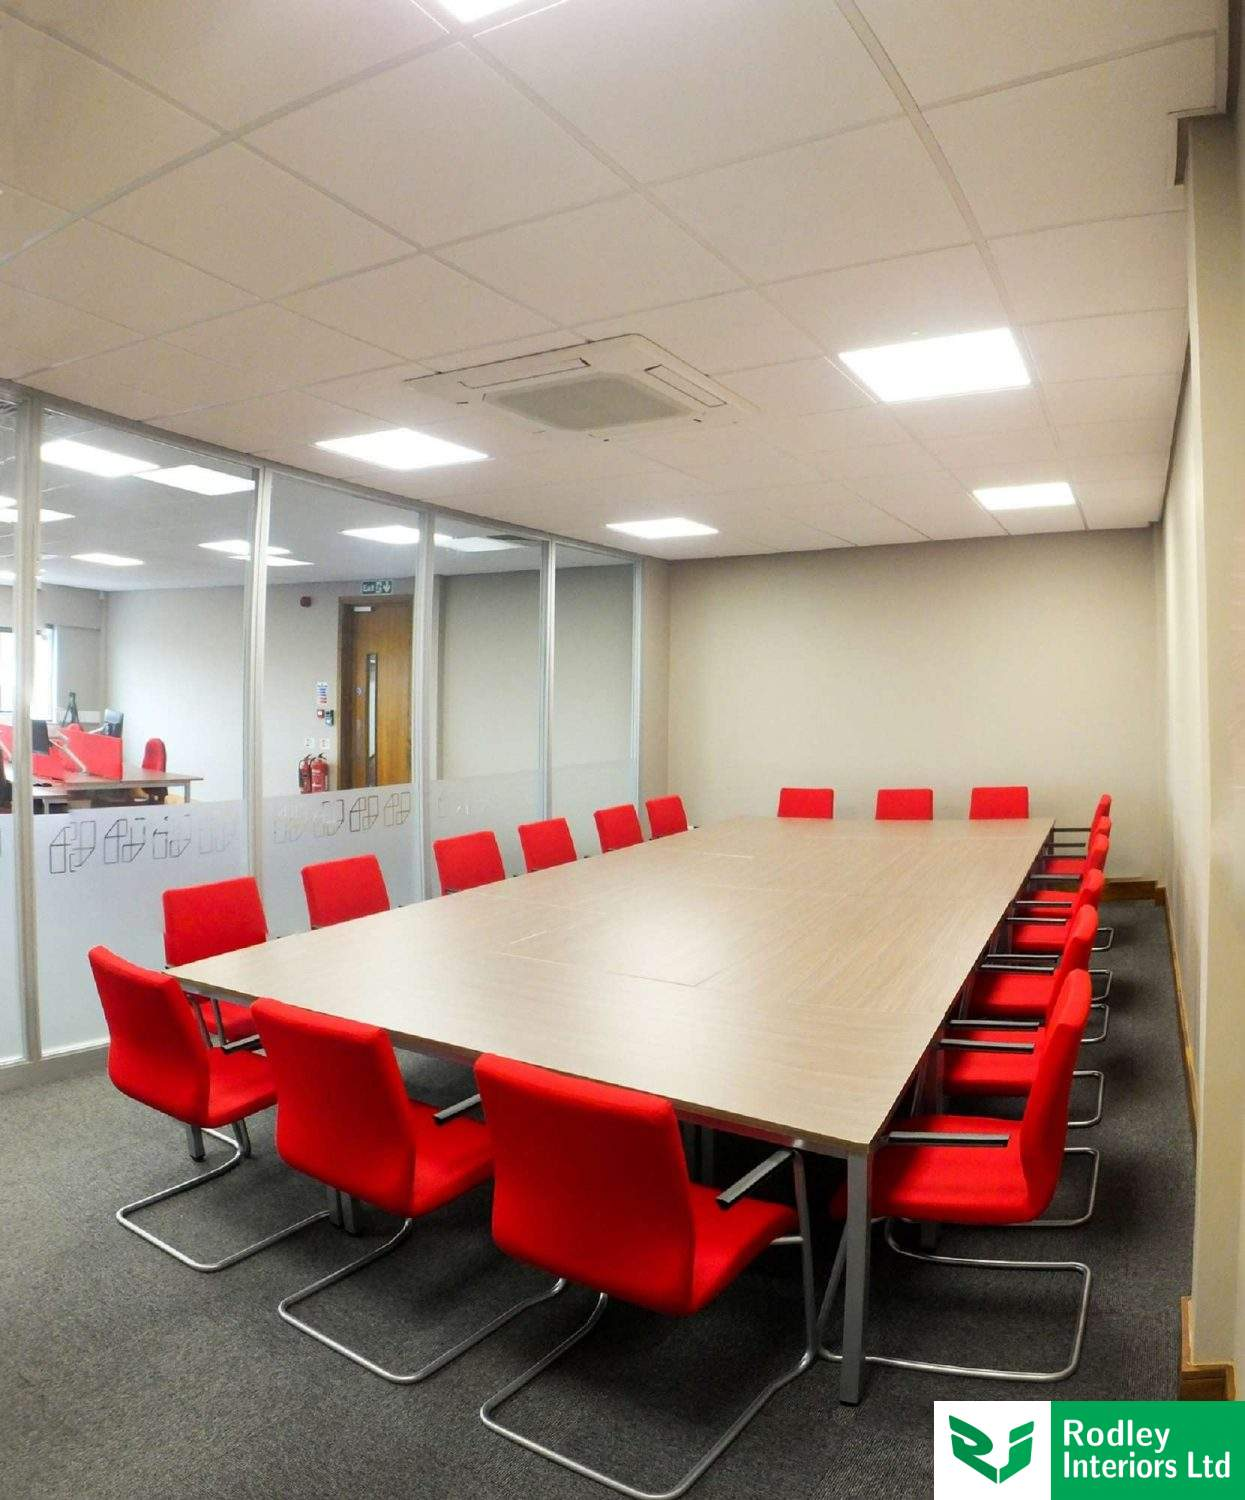conference_table: (164, 815, 1072, 1404)
